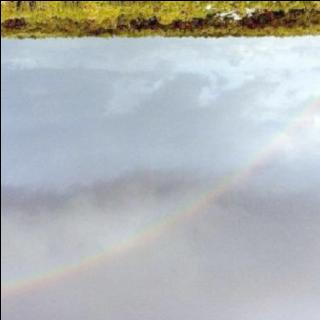Nimbostratus: (0, 39, 320, 320)
